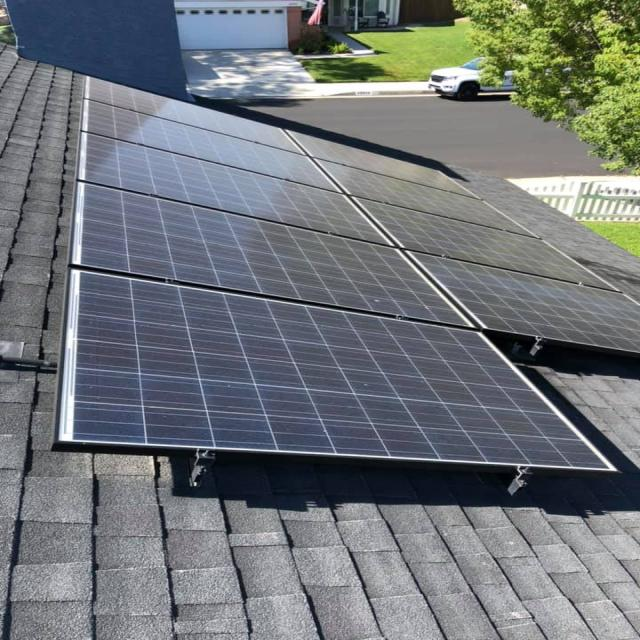dust-solar-panel: (55, 72, 640, 475)
